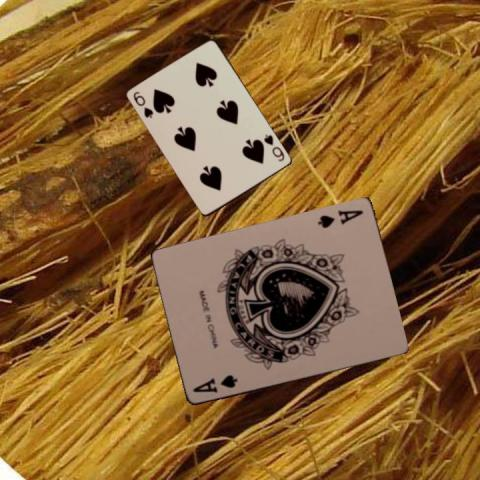6s: (261, 131, 286, 163), (131, 89, 155, 119)
As: (189, 372, 239, 395), (314, 207, 364, 230)
